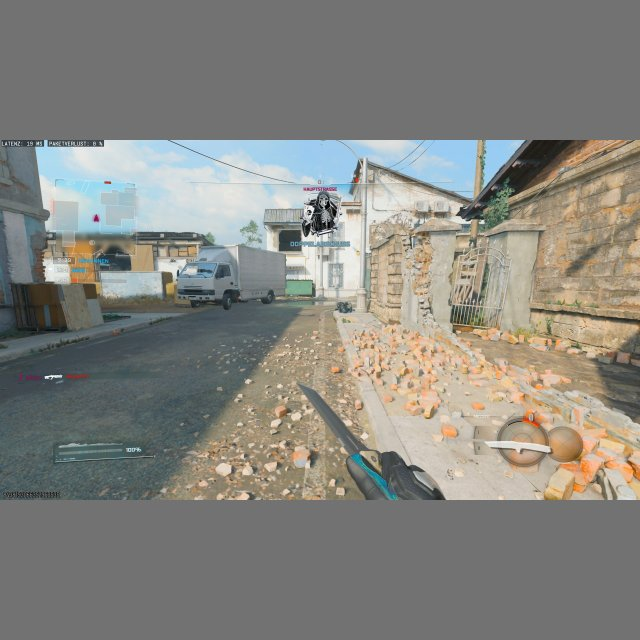player: (259, 289, 276, 304)
